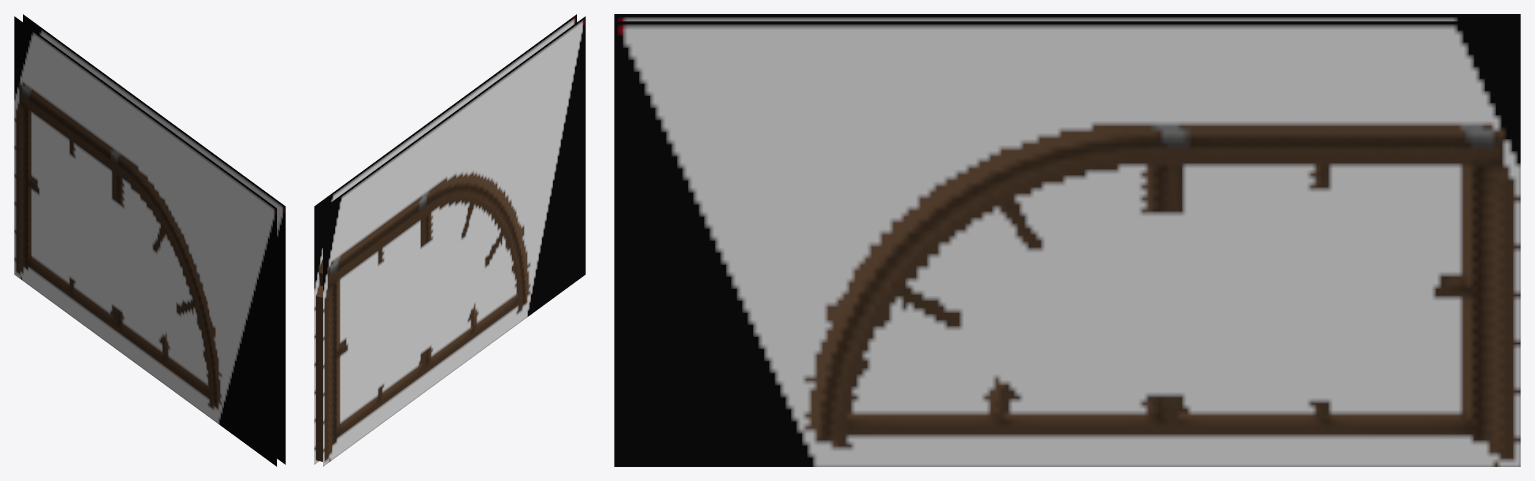
File: pz_native_fixtures_windows_wood_88_frame.obj
3 views of the same model, side by side, from view 1: azimuth 30°, elevation 25°; view 2: azimuth 150°, elevation 25°; view 3: azimuth 270°, elevation 25° (orthographic). The views are drawn at different scales.
Visible parts, largest first — view 1: pz_native_fixtures_windows_wood_88_frame; view 2: pz_native_fixtures_windows_wood_88_frame; view 3: pz_native_fixtures_windows_wood_88_frame.
Part boxes in pixels (bbox=[...]): pz_native_fixtures_windows_wood_88_frame: bbox=[14, 14, 285, 466]; pz_native_fixtures_windows_wood_88_frame: bbox=[314, 14, 585, 466]; pz_native_fixtures_windows_wood_88_frame: bbox=[614, 14, 1520, 466].
Size of the model in its own units: 0.04 by 1.16 by 2.13.
Materials: 1 (1 with a texture image).
